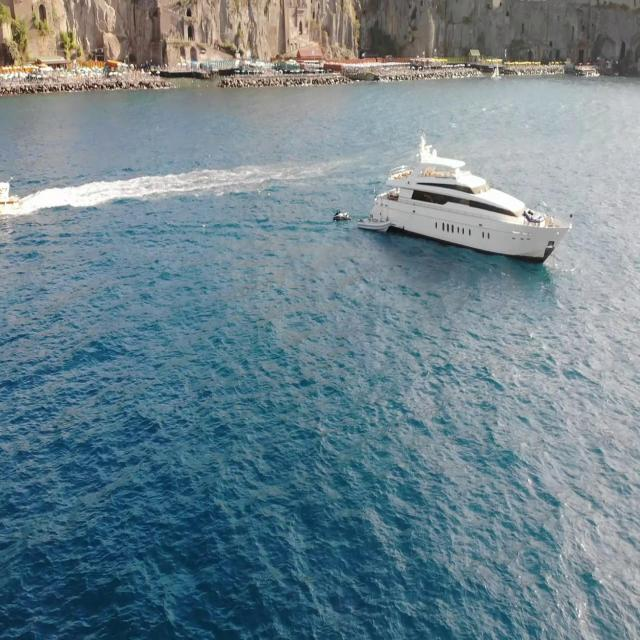boat: (383, 140, 574, 270), (358, 210, 389, 230), (336, 203, 352, 224)
